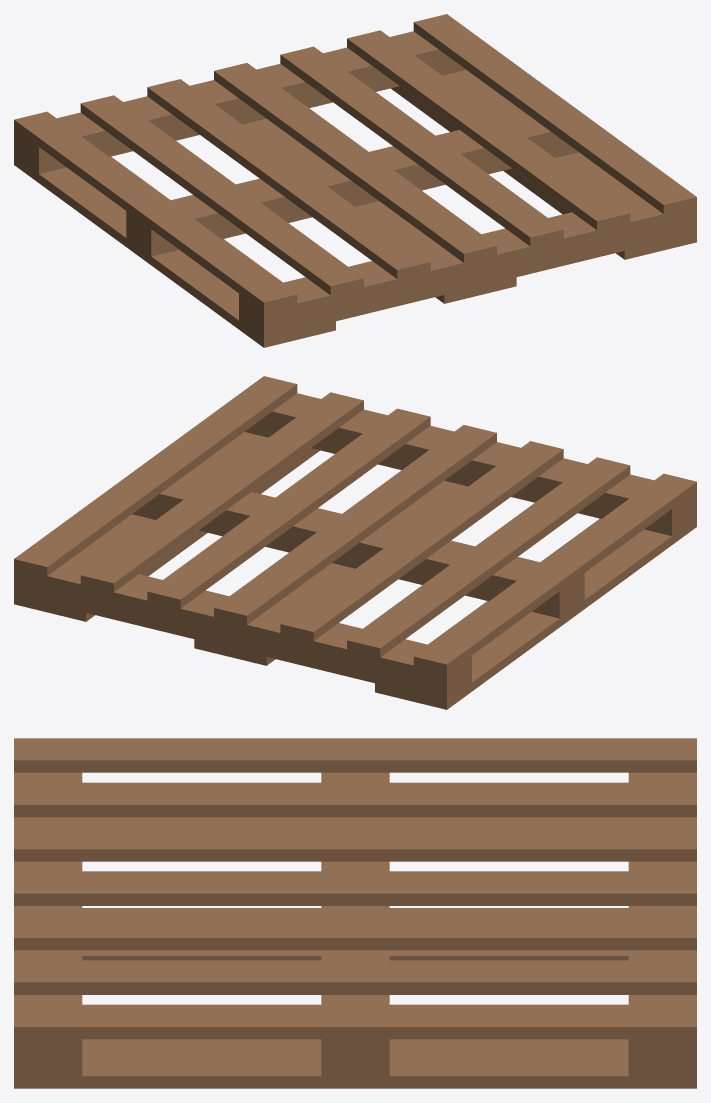
Rendered from Pallet_Model_01.fbx.
3 views of the same model, one above another, from view 1: azimuth 30°, elevation 25°; view 2: azimuth 150°, elevation 25°; view 3: azimuth 270°, elevation 25° (orthographic). The views are drawn at different scales.
Parts seen in each view (by area): view 1: Cube_5; view 2: Cube_5; view 3: Cube_5.
Boxes of the visible parts, x1,y1,x2,y2 form: Cube_5: (14, 14, 696, 347); Cube_5: (14, 376, 696, 709); Cube_5: (14, 738, 696, 1088).
Bounding box in the file's own units: 50 × 5 × 50.
